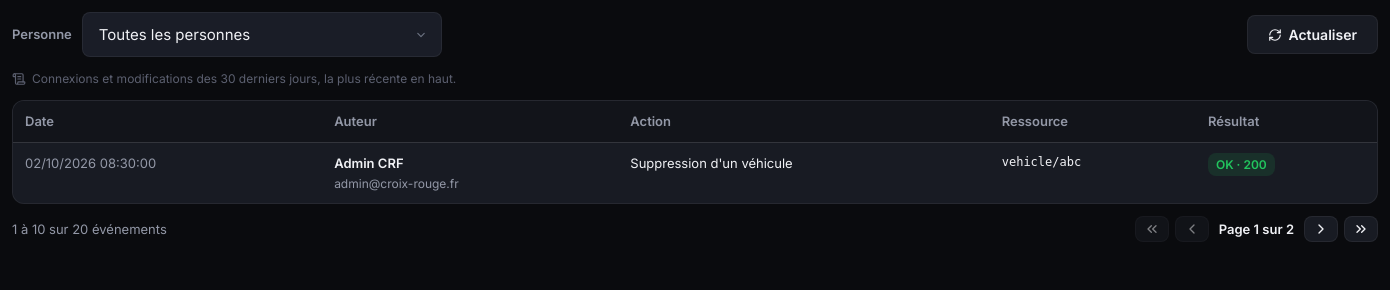
AuditLogTab › une page suivante en cours n'écrase pas la liste d'une autre personne
Step 1. Click the button named "Page suivante" → (1321, 229), box [1304,216,1338,242]
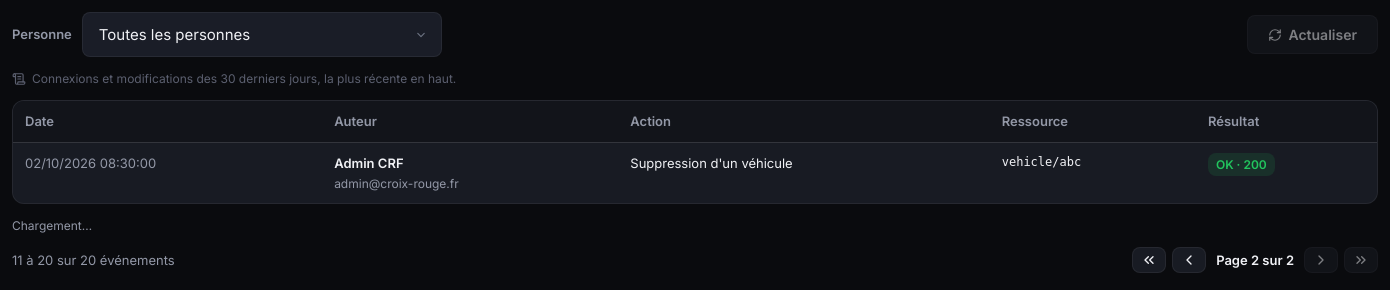
Step 2. Select "chauffeur@croix-rouge.fr" in the dropdown labelled "Personne" → (262, 34), box [82,12,442,57]
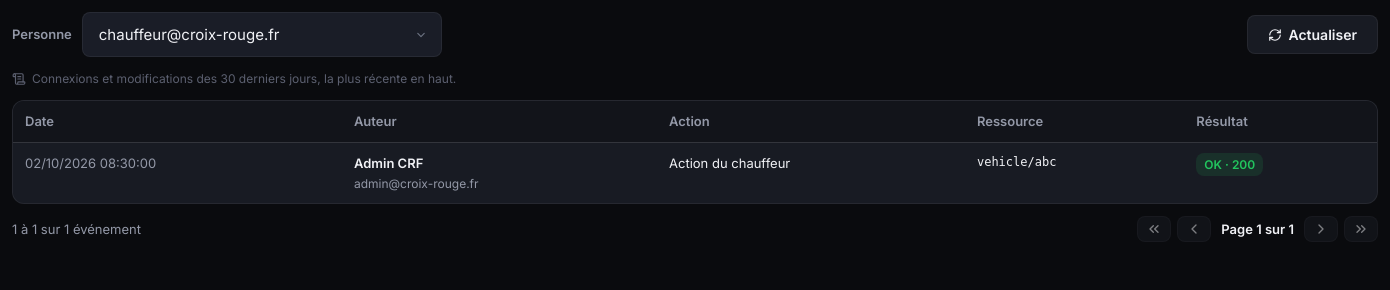
Check: the text "Action du chauffeur" is shown, box [657,142,965,203]
